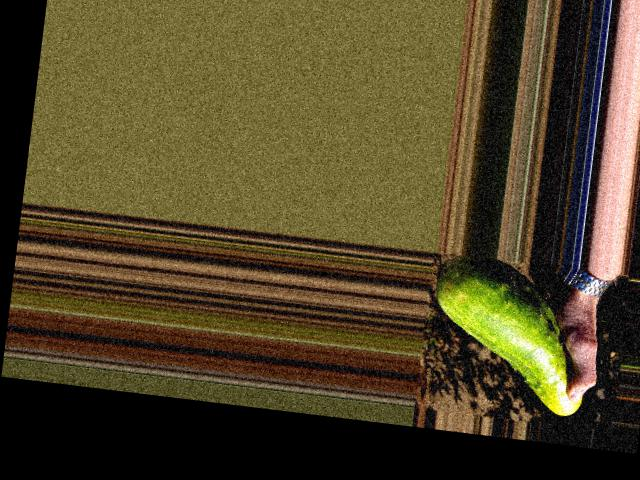cucumber: (421, 251, 597, 417)
